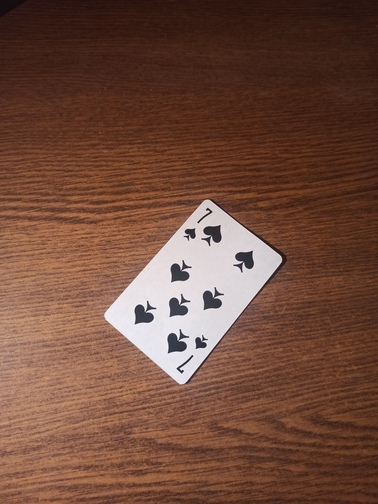sevenspades: (103, 197, 281, 384)
